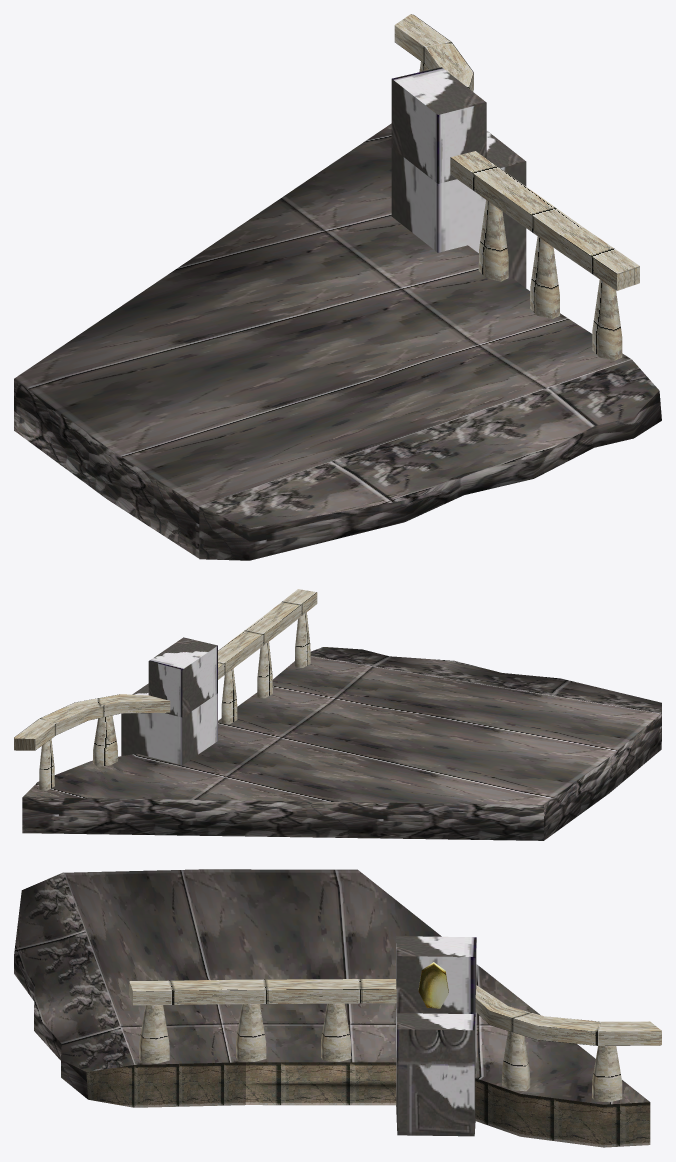
The model's file is INST_SM_WALKWAY_BROKENB_2.obj.
The picture shows the model from 3 angles, top to bottom: view 1: azimuth 30°, elevation 25°; view 2: azimuth 150°, elevation 25°; view 3: azimuth 270°, elevation 25°; orthographic projection. The views are drawn at different scales.
Visible parts, largest first — view 1: Box37; view 2: Box37; view 3: Box37.
Part boxes in pixels (<box>): Box37: <box>14,14,661,560</box>; Box37: <box>14,589,661,840</box>; Box37: <box>14,869,661,1147</box>.
Bounding box in the file's own units: 720 × 232 × 836.
